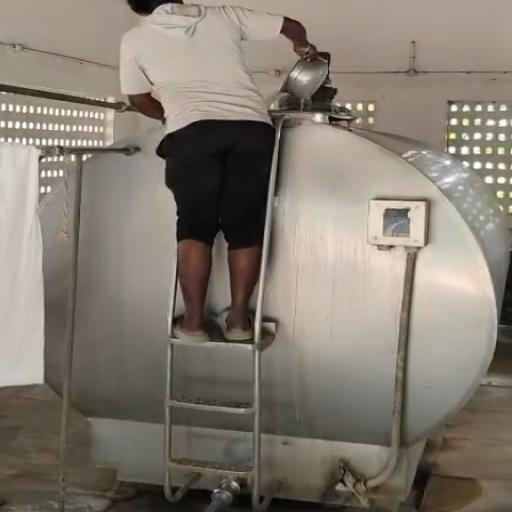silo: (42, 111, 511, 505)
vessel: (280, 58, 330, 100)
